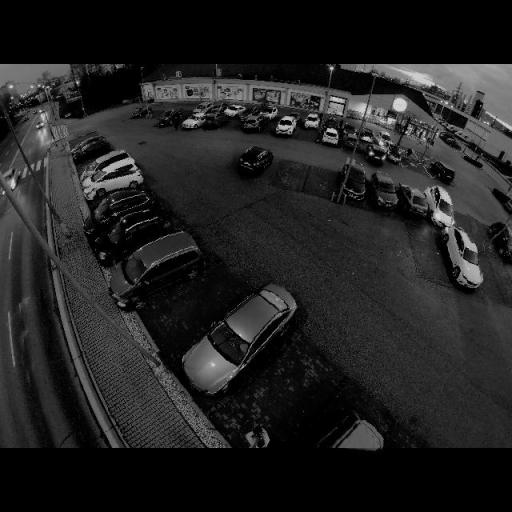busy: (170, 282, 306, 398), (111, 223, 212, 310), (292, 408, 394, 450), (96, 208, 170, 260), (437, 227, 485, 287), (82, 163, 144, 199), (91, 189, 155, 221), (365, 170, 403, 211), (231, 144, 275, 178), (426, 186, 457, 227), (336, 165, 371, 201), (488, 222, 512, 268), (399, 187, 431, 219), (86, 152, 134, 172), (74, 141, 112, 161), (426, 160, 456, 184), (272, 115, 300, 138), (241, 114, 271, 134), (155, 109, 186, 128), (179, 112, 210, 131), (201, 112, 228, 131), (362, 146, 387, 166), (300, 113, 324, 132), (318, 128, 340, 147), (202, 100, 228, 114), (224, 104, 246, 120), (384, 147, 402, 165), (131, 107, 152, 119), (341, 136, 358, 150)
free: (244, 370, 322, 417), (170, 284, 228, 320), (412, 232, 438, 282), (480, 257, 502, 301), (462, 214, 484, 244), (274, 168, 302, 186), (307, 174, 335, 191), (223, 118, 241, 134), (296, 131, 316, 141)
